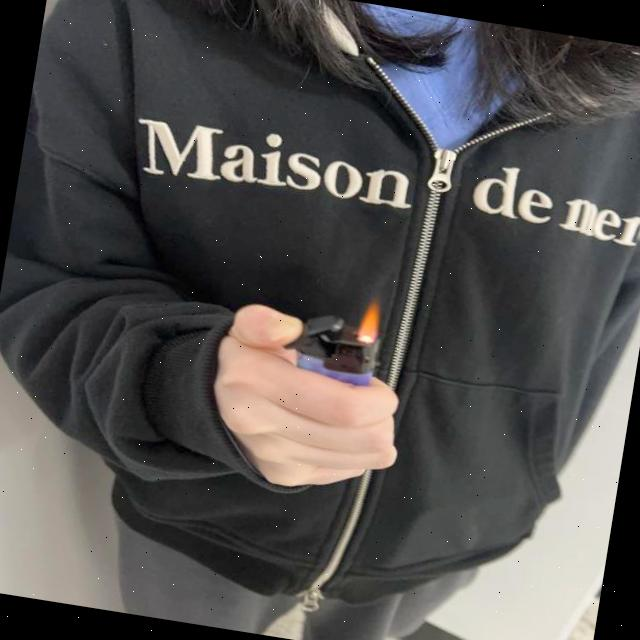fire: (354, 296, 386, 348)
